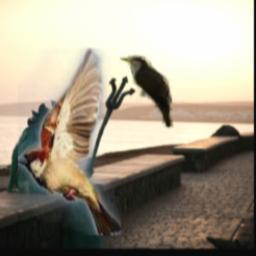Cuckoo: (120, 57, 174, 129)
Sparrow: (19, 48, 122, 235)
